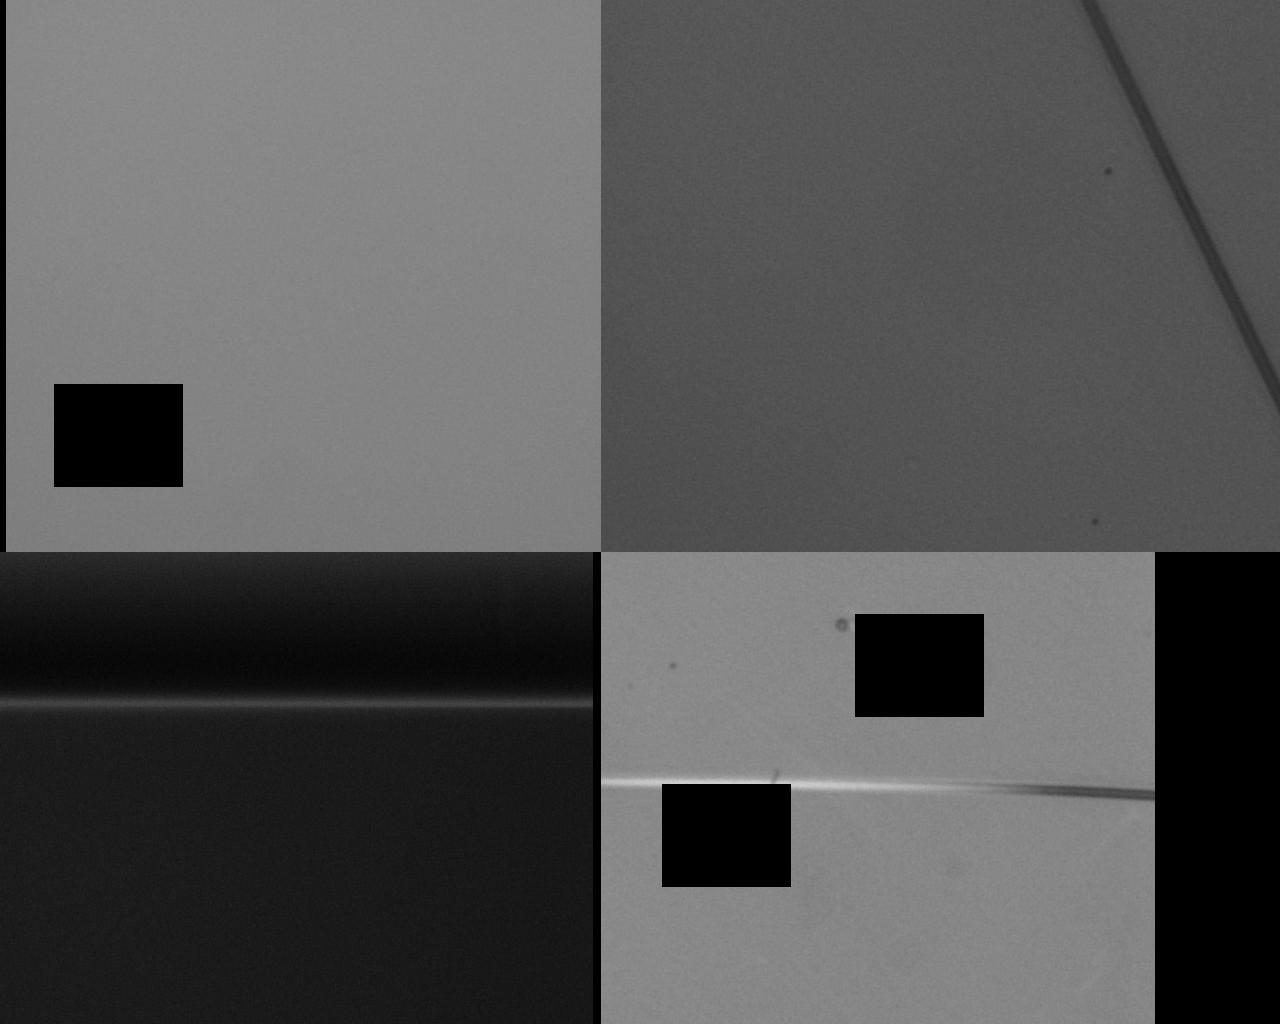fiber: (127, 289, 1151, 719)
